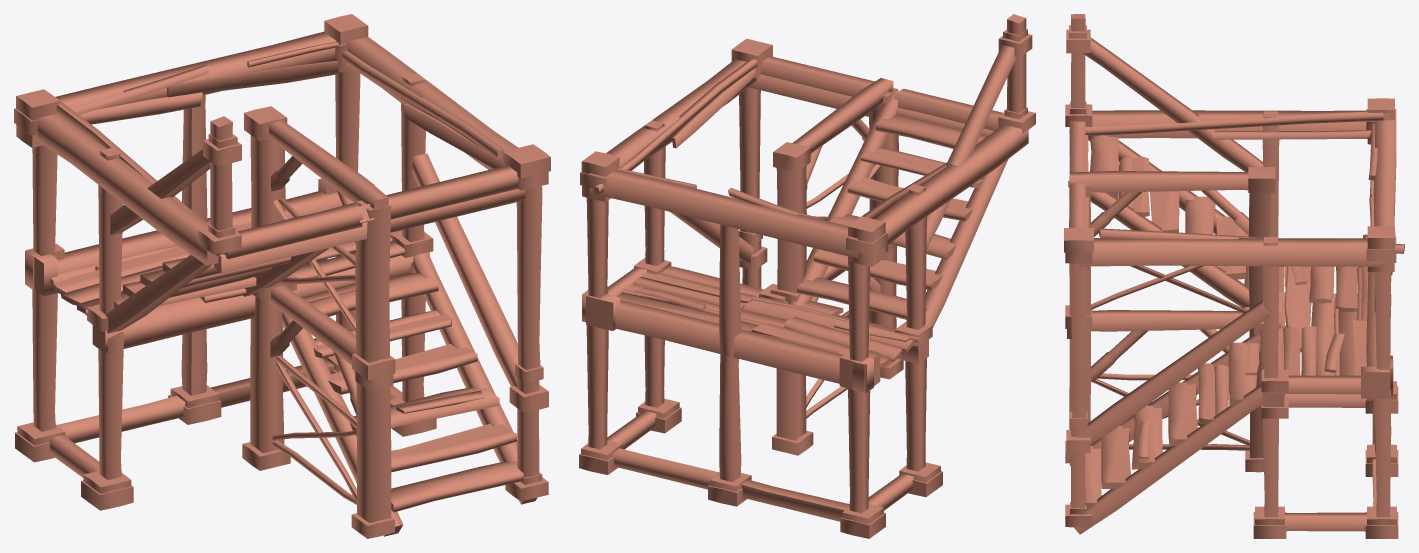
File: stairs_wood.fbx
3 renders of one model, left to right at view 1: azimuth 30°, elevation 25°; view 2: azimuth 150°, elevation 25°; view 3: azimuth 270°, elevation 25°, orthographic. The views are drawn at different scales.
Parts seen in each view (by area): view 1: Cube.106; view 2: Cube.106; view 3: Cube.106.
Part boxes in pixels (box(x1,y1,x2,y2)): Cube.106: box(14, 14, 550, 538); Cube.106: box(579, 14, 1035, 538); Cube.106: box(1064, 14, 1404, 538).
Size of the model in its own units: 5.48 by 7.09 by 5.59.
